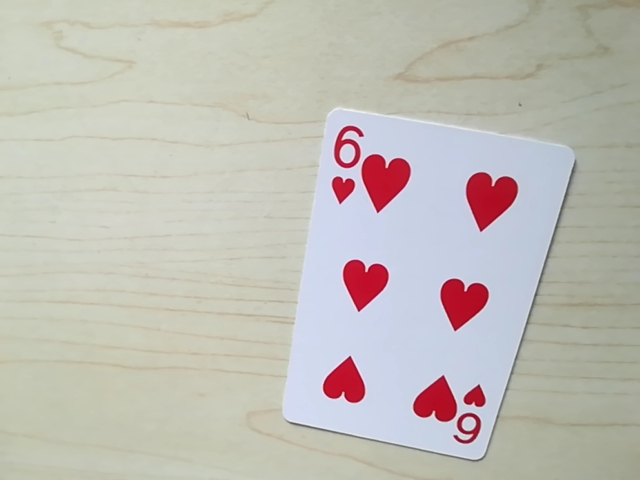hx 6: (327, 116, 375, 186), (448, 398, 491, 455)
